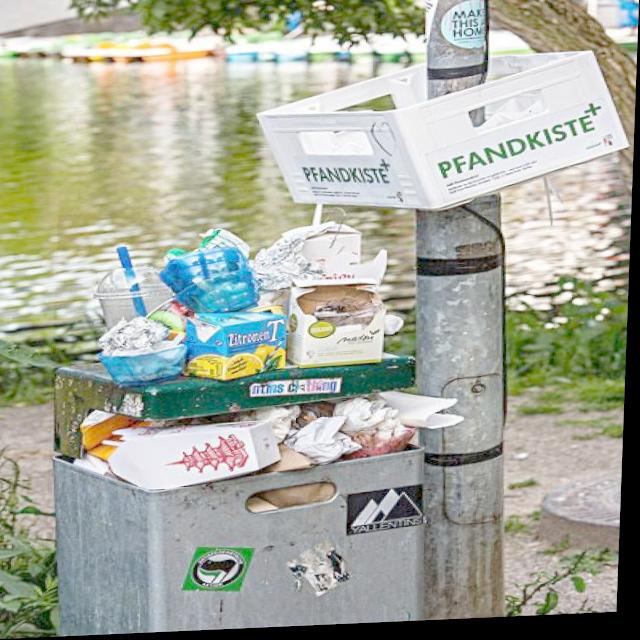overflow: (47, 201, 474, 637)
